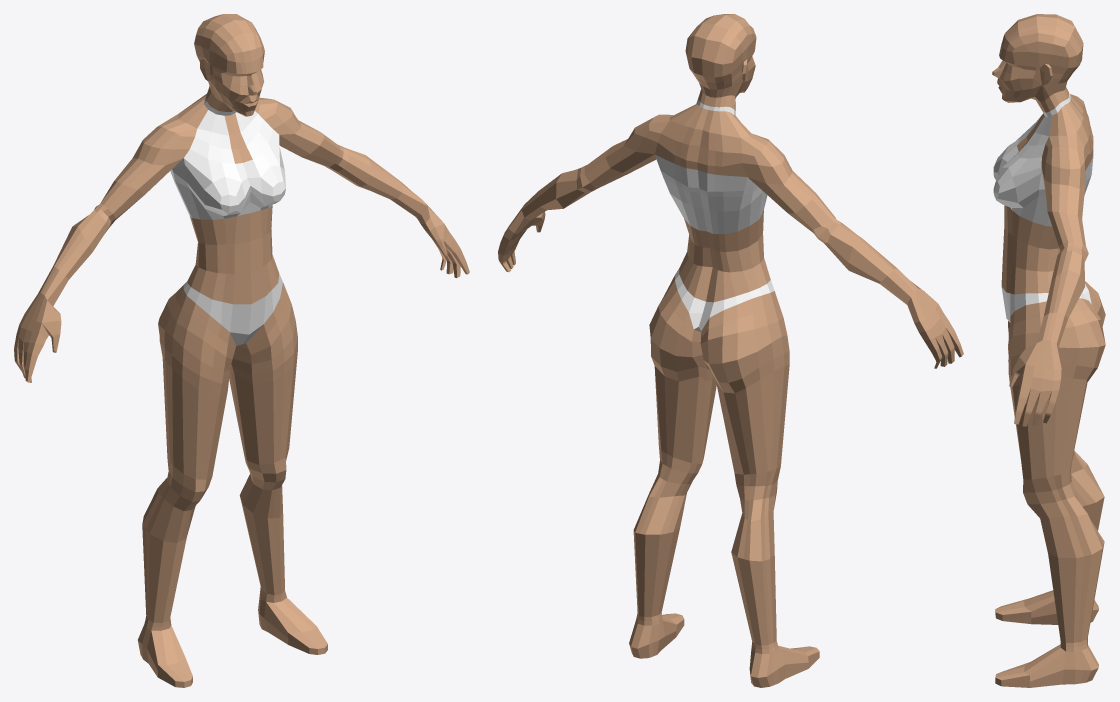
Rendered from BASE MASH - LOW POLY FE.fbx.
The picture shows the model from 3 angles, left to right: view 1: azimuth 30°, elevation 25°; view 2: azimuth 150°, elevation 25°; view 3: azimuth 270°, elevation 25°; orthographic projection.
Parts seen in each view (by area): view 1: Base M; view 2: Base M; view 3: Base M.
Part boxes in pixels (x1,y1,x2,y2): Base M: [14, 14, 469, 687]; Base M: [498, 14, 963, 687]; Base M: [992, 14, 1105, 687].
Bounding box in the file's own units: 185 × 252 × 40.96.
